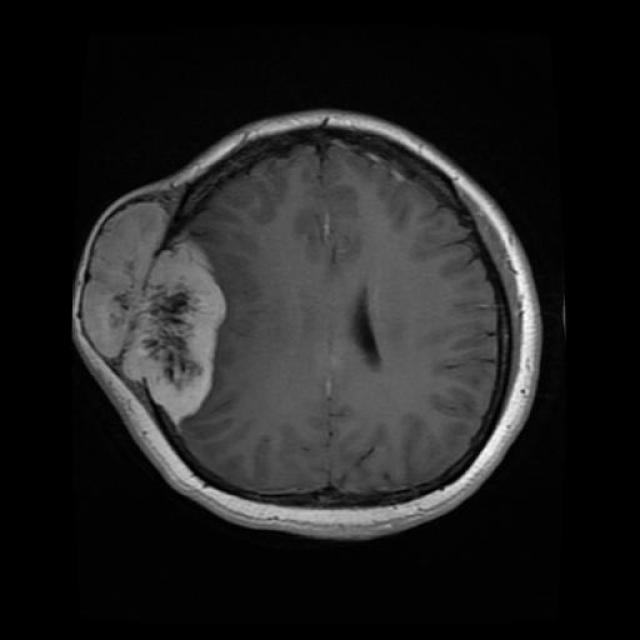Meningioma: (77, 183, 226, 428)
